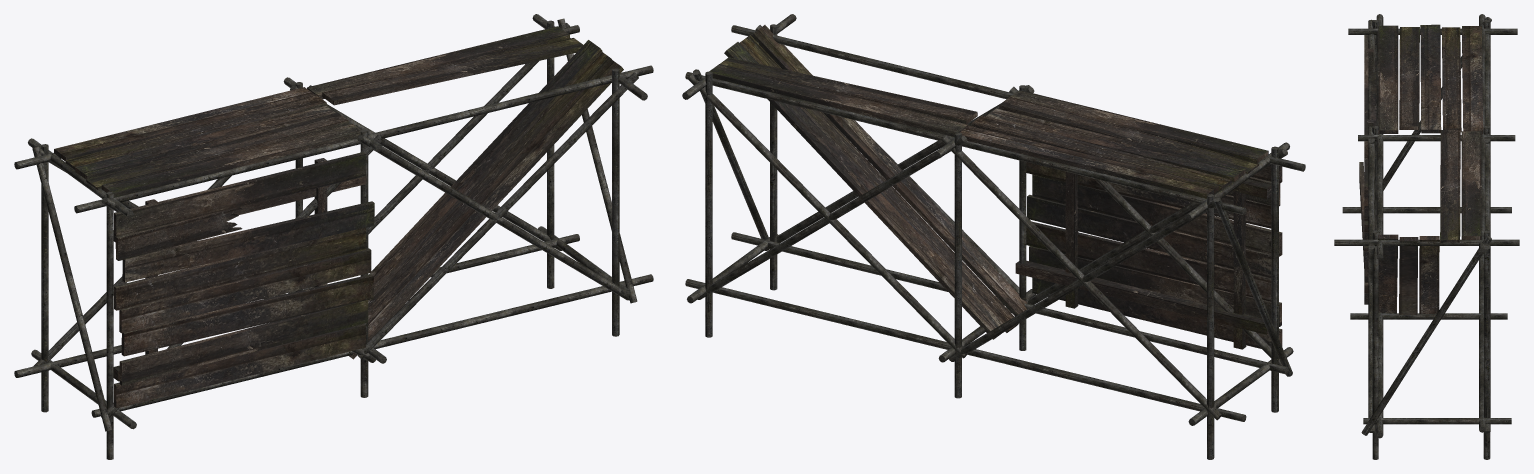
Rendered from Scaffolding_2.fbx.
The picture shows the model from 3 angles, left to right: view 1: azimuth 30°, elevation 25°; view 2: azimuth 150°, elevation 25°; view 3: azimuth 270°, elevation 25°; orthographic projection. The views are drawn at different scales.
Parts seen in each view (by area): view 1: Scaffolding_2; view 2: Scaffolding_2; view 3: Scaffolding_2.
Part boxes in pixels (x1,y1,x2,y2): Scaffolding_2: (14, 14, 653, 459); Scaffolding_2: (682, 14, 1305, 459); Scaffolding_2: (1334, 14, 1519, 459).
Size of the model in its own units: 568 by 251 by 186.
